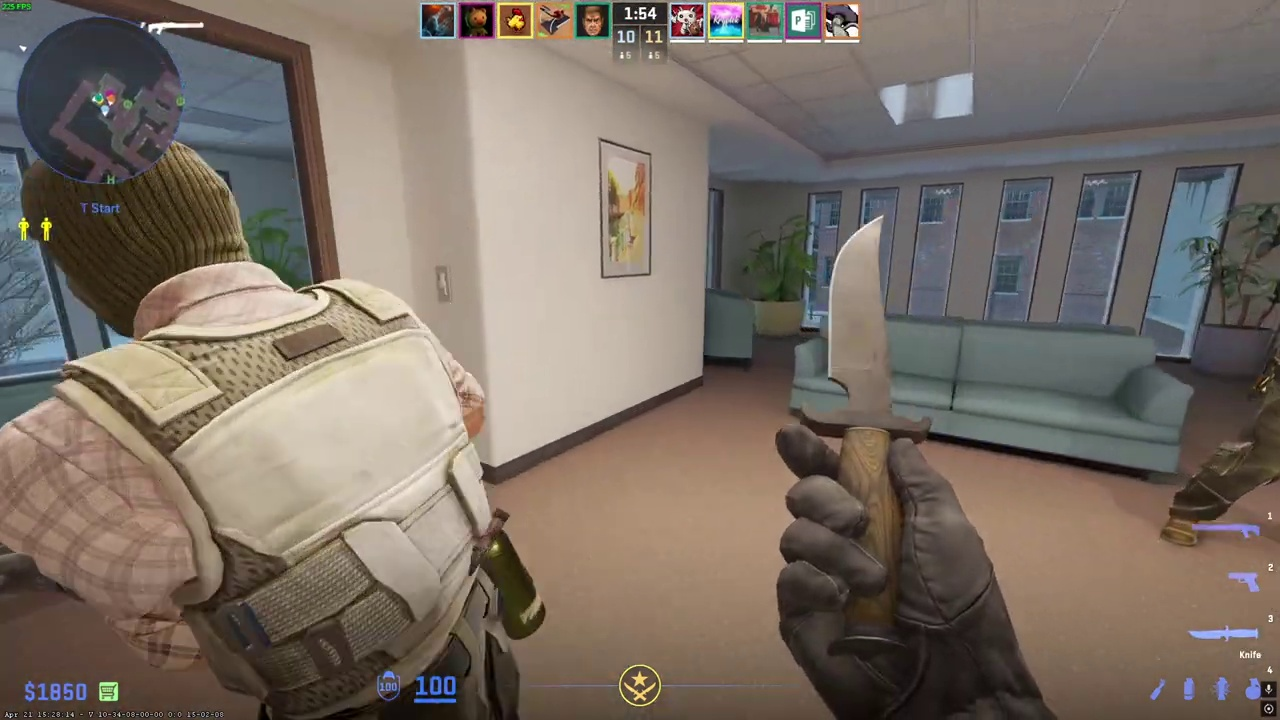Terrorist: (0, 140, 511, 714)
